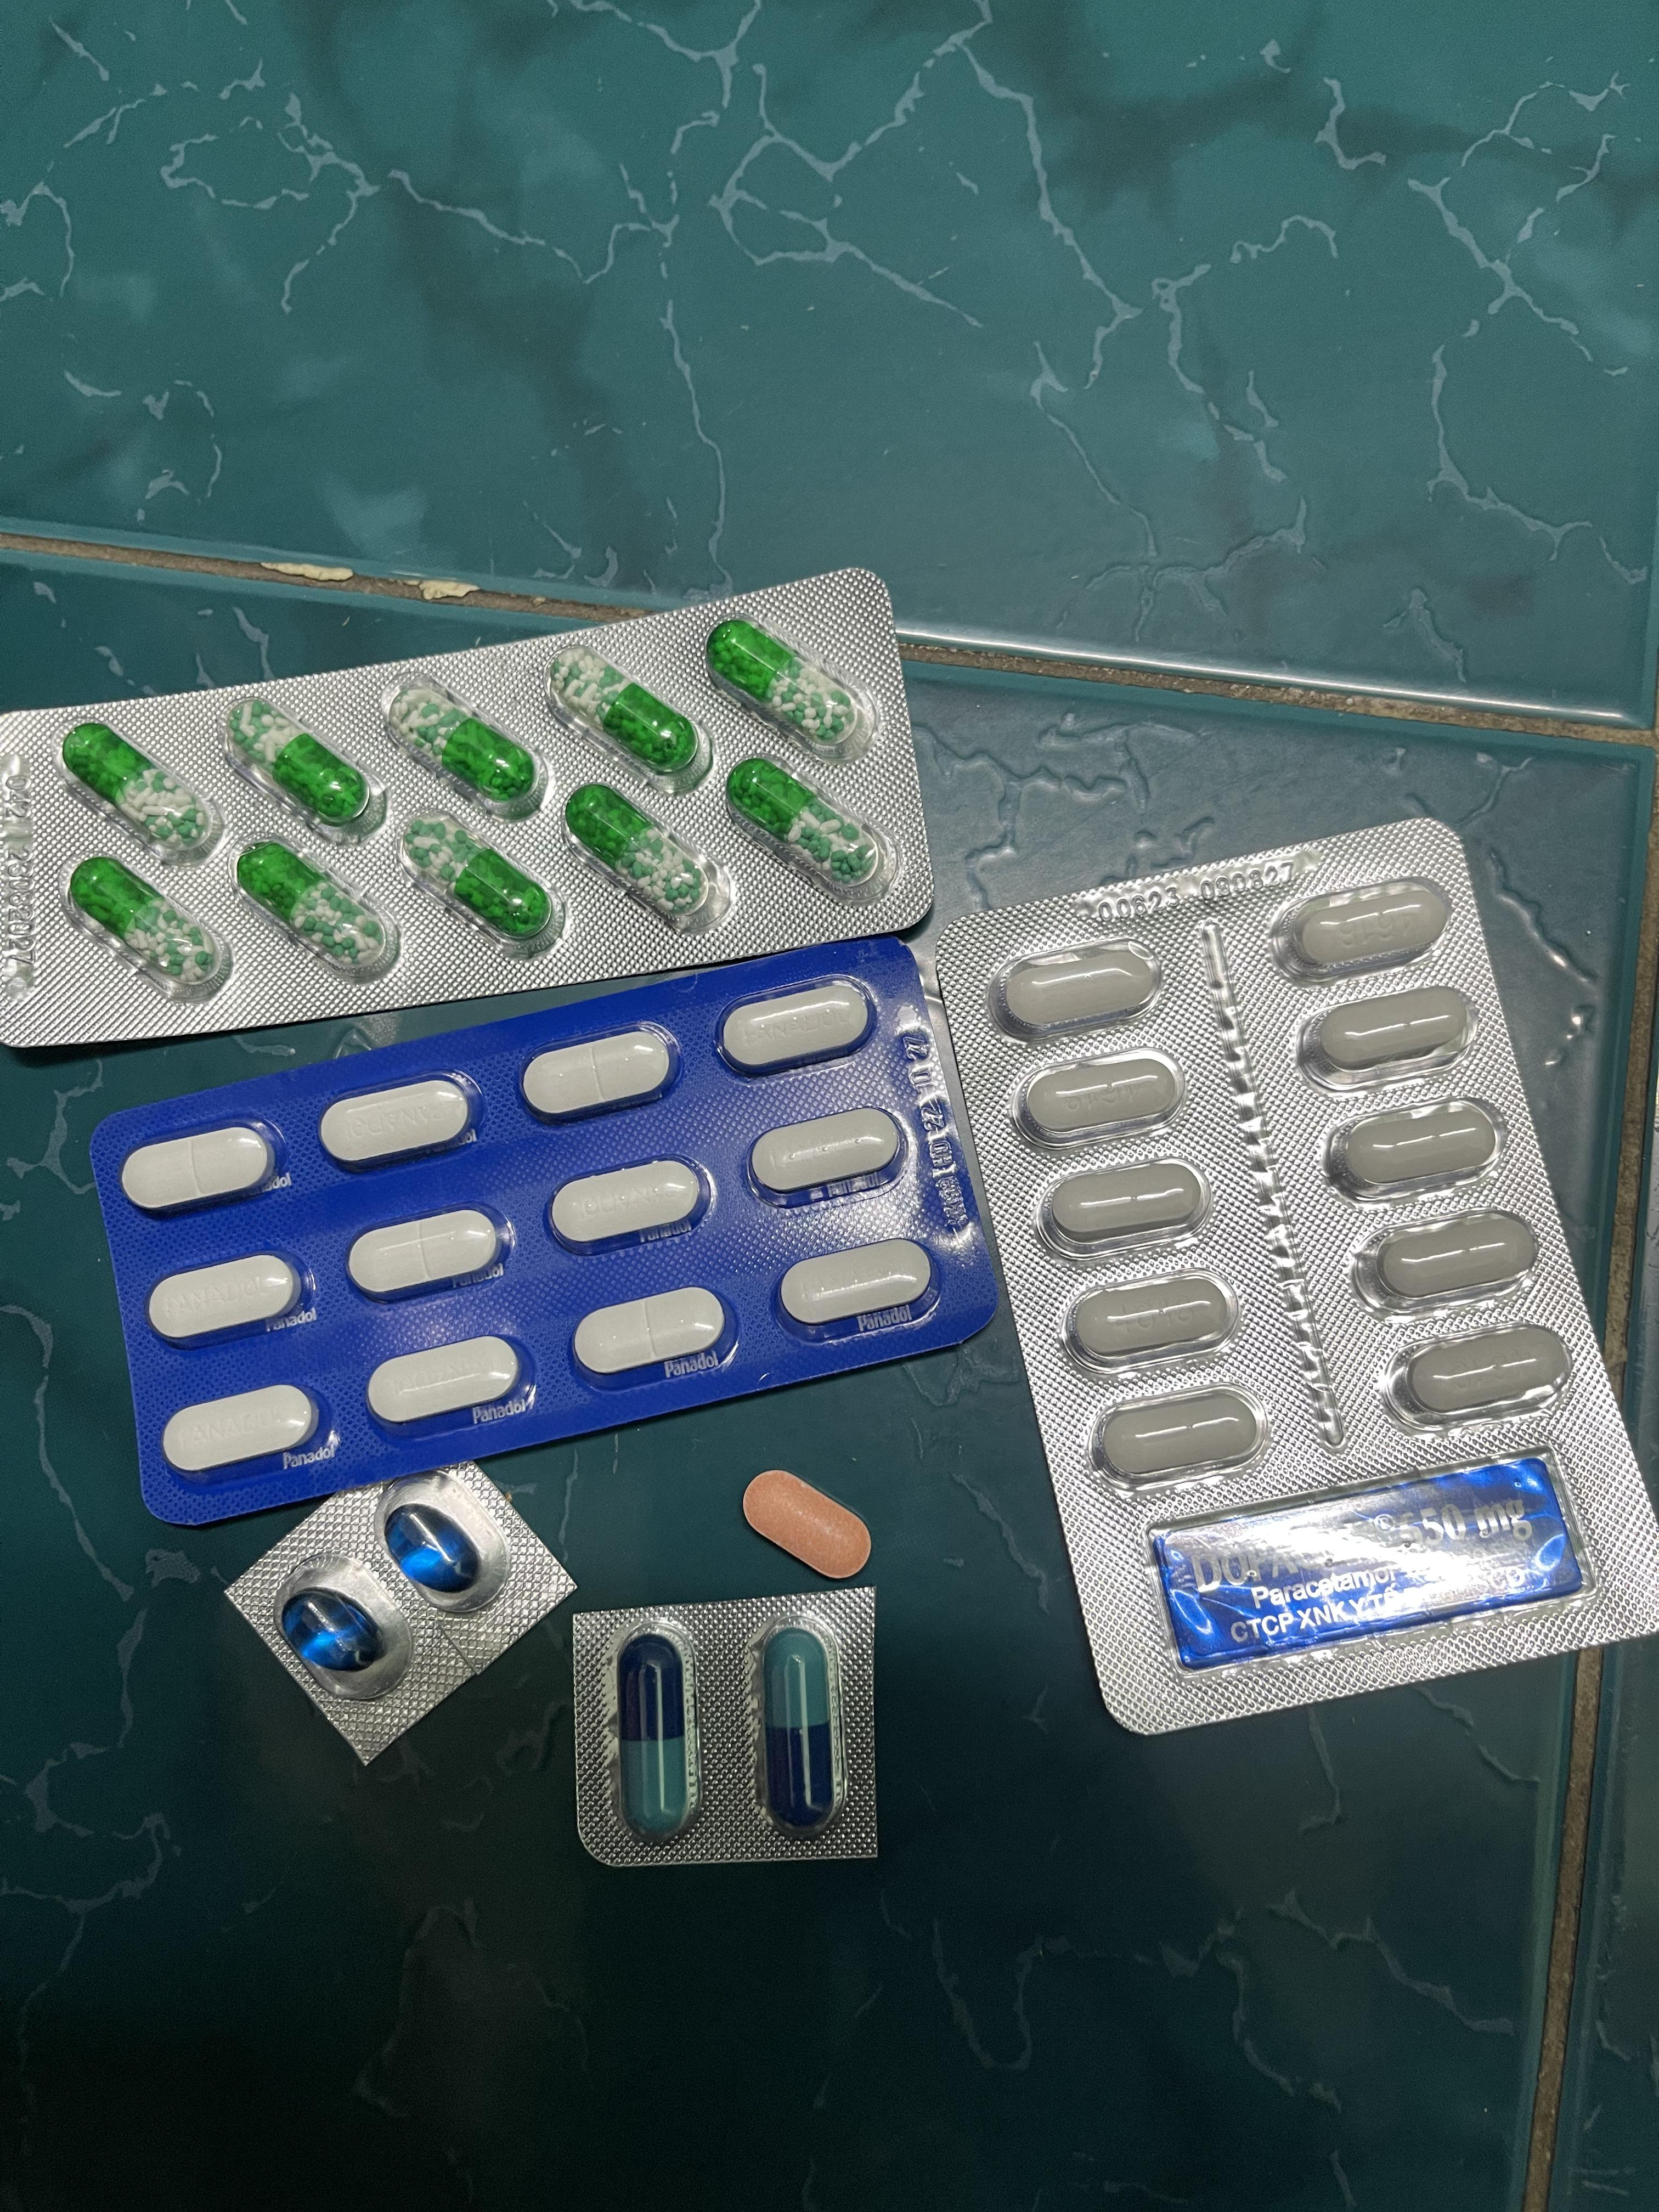Lincomyxin_500mg: (385, 1505, 483, 1594), (282, 1590, 383, 1670)
Loratadine_10mg: (741, 1470, 873, 1583)
Paracetamol_350mg: (145, 1251, 305, 1350), (160, 1379, 322, 1477), (547, 1158, 709, 1251), (347, 1209, 507, 1301), (366, 1336, 526, 1428), (777, 1240, 938, 1332), (718, 975, 878, 1068), (573, 1285, 730, 1379), (521, 1029, 678, 1123), (317, 1076, 474, 1170), (119, 1125, 277, 1217), (748, 1108, 906, 1198)
Paracetamol_500mg: (1384, 1322, 1579, 1433), (1354, 1207, 1544, 1315), (1324, 1092, 1511, 1202), (1269, 876, 1457, 982), (1298, 984, 1480, 1089), (1089, 1388, 1263, 1486), (1063, 1270, 1230, 1371), (1012, 1047, 1175, 1148), (992, 939, 1154, 1040), (1042, 1155, 1204, 1254)
Paracetamol_650mg: (63, 721, 221, 853), (235, 840, 389, 972), (566, 784, 713, 921), (389, 679, 538, 810), (556, 650, 702, 780), (711, 624, 857, 749), (404, 815, 552, 939), (73, 859, 214, 988), (730, 759, 875, 883), (230, 702, 369, 829)
pill: (608, 1622, 701, 1846), (760, 1630, 840, 1839)
